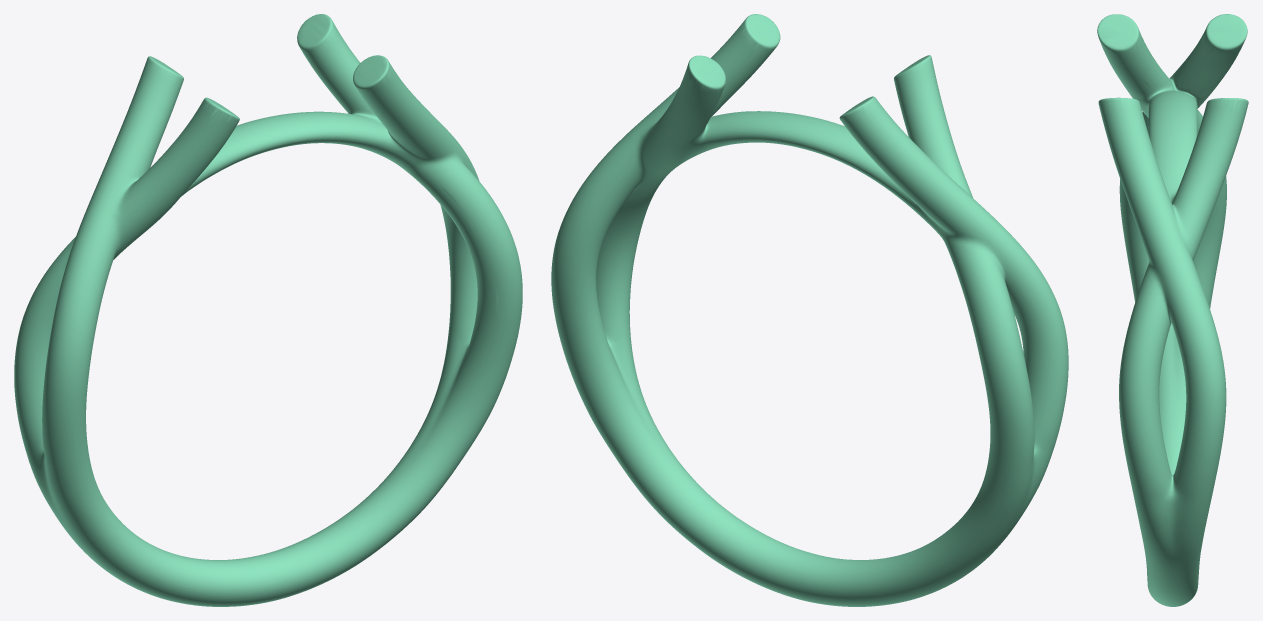
3 renders of one model, left to right at view 1: azimuth 30°, elevation 25°; view 2: azimuth 150°, elevation 25°; view 3: azimuth 270°, elevation 25°, orthographic. The views are drawn at different scales.
Visible parts, largest first — view 1: Metal02; view 2: Metal02; view 3: Metal02.
Part boxes in pixels (left/top/right/bottom): Metal02: left=14, top=14, right=522, bottom=606; Metal02: left=551, top=14, right=1068, bottom=606; Metal02: left=1097, top=14, right=1248, bottom=606.
Size of the model in its own units: 21.1 by 22.77 by 5.93.
